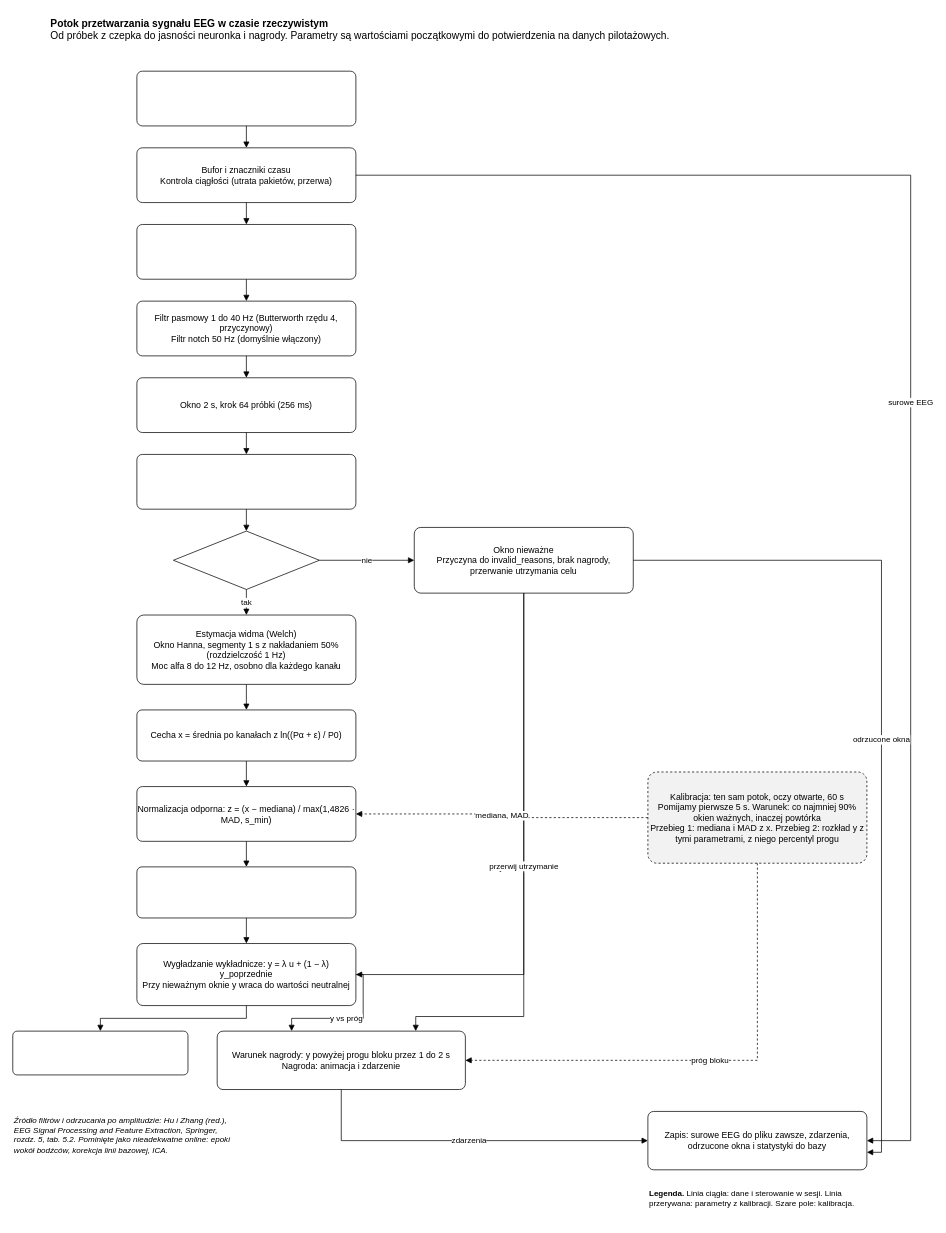
Some shapes in this 946 by 1233 pixel diagram are drawn without their labels. Each missing label, with the centre of its shape:
"Czepek EEG Próbki EEG w µV, 250 Hz, kanały O1 i O2" belongs at [246,98].
"Jasność neuronka (ciągły feedback)" belongs at [100,1052].
"Kontrola jakości okna Amplituda (próg w µV jako parametr), skoki" belongs at [246,481].
"Kontrola jakości surowych próbek Luki, nasycenie, sygnał płaski" belongs at [246,251].
"Mapowanie: u = clip((z − a) / (b − a), 0, 1)" belongs at [246,892].
"Okno ważne? (obie kontrole)" belongs at [246,559].
